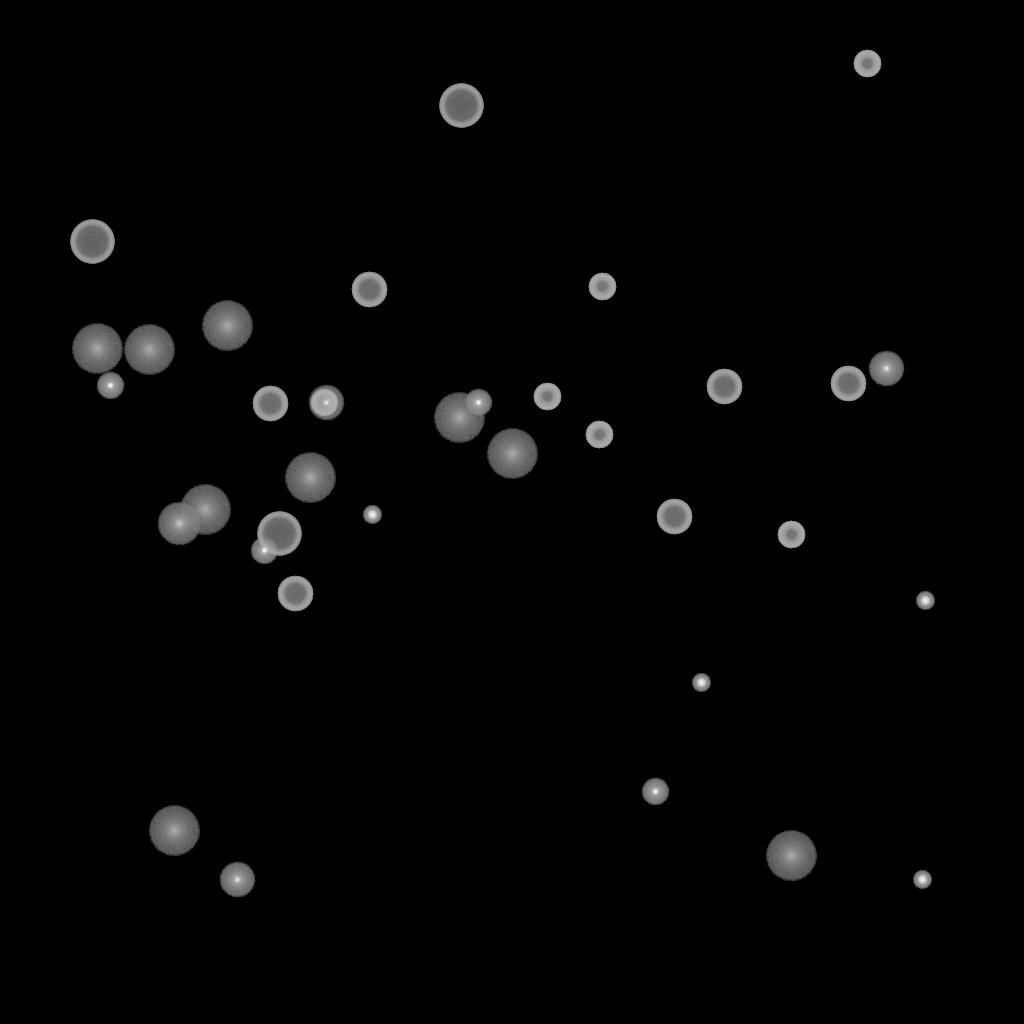depth:-10: (250, 537, 278, 565), (641, 778, 669, 806), (464, 389, 492, 417), (96, 372, 124, 400)
depth:-20: (913, 871, 931, 889), (692, 674, 710, 692), (916, 592, 934, 610), (363, 506, 381, 524)
depth:-50: (777, 521, 805, 549), (588, 273, 616, 301), (853, 50, 881, 78), (585, 421, 613, 449), (533, 383, 561, 411), (310, 389, 338, 417)
depth:-60: (830, 366, 866, 402), (351, 272, 387, 308), (277, 576, 313, 612), (706, 369, 742, 405), (656, 499, 692, 535), (252, 386, 288, 422)
depth:-70: (257, 512, 301, 556), (70, 220, 114, 264), (439, 84, 483, 128)
depth:0: (868, 351, 904, 387), (219, 862, 255, 898), (308, 385, 344, 421)
depth:10: (157, 502, 201, 546)
depth:20: (179, 485, 231, 535), (486, 429, 538, 479), (123, 325, 175, 375), (284, 453, 336, 503), (433, 393, 485, 443), (148, 806, 200, 856), (201, 301, 253, 351), (71, 324, 123, 374), (765, 831, 817, 881)
